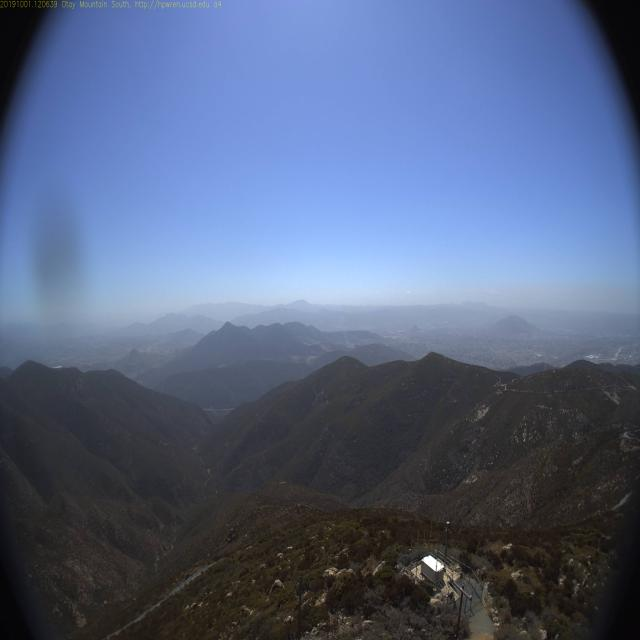smoke: (334, 314, 359, 358)
